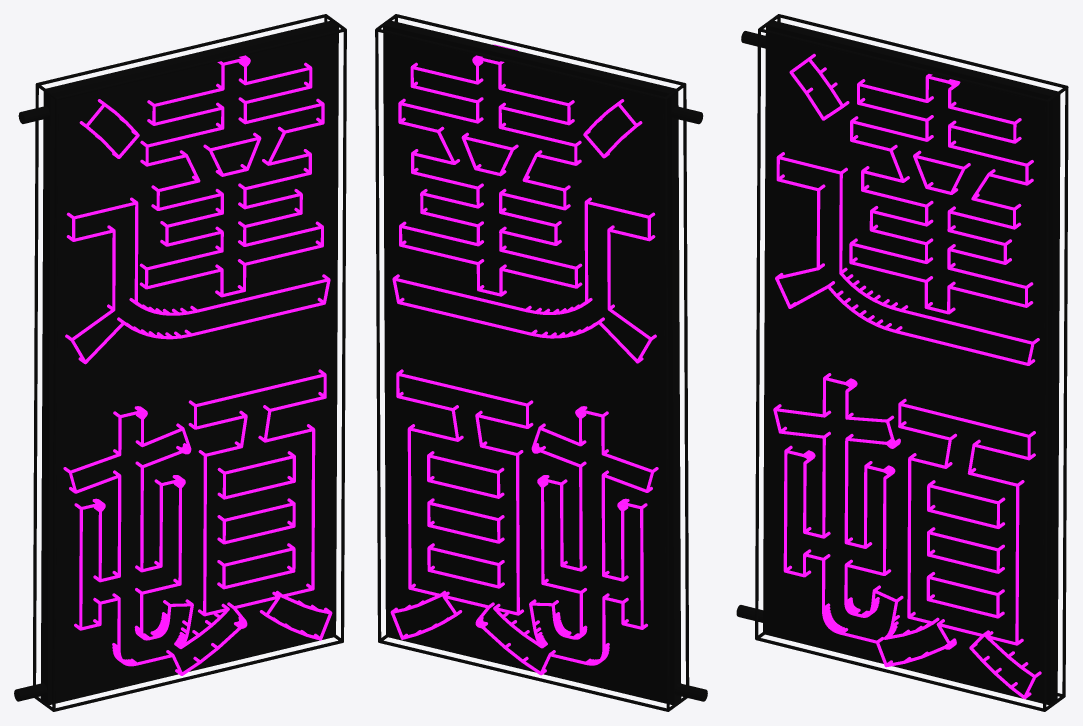
File: neon_sign.glb
3 renders of one model, left to right at view 1: azimuth 30°, elevation 25°; view 2: azimuth 150°, elevation 25°; view 3: azimuth 330°, elevation 25°, orthographic.
Bounding box in the file's own units: 1.08 × 1.98 × 0.1231.
